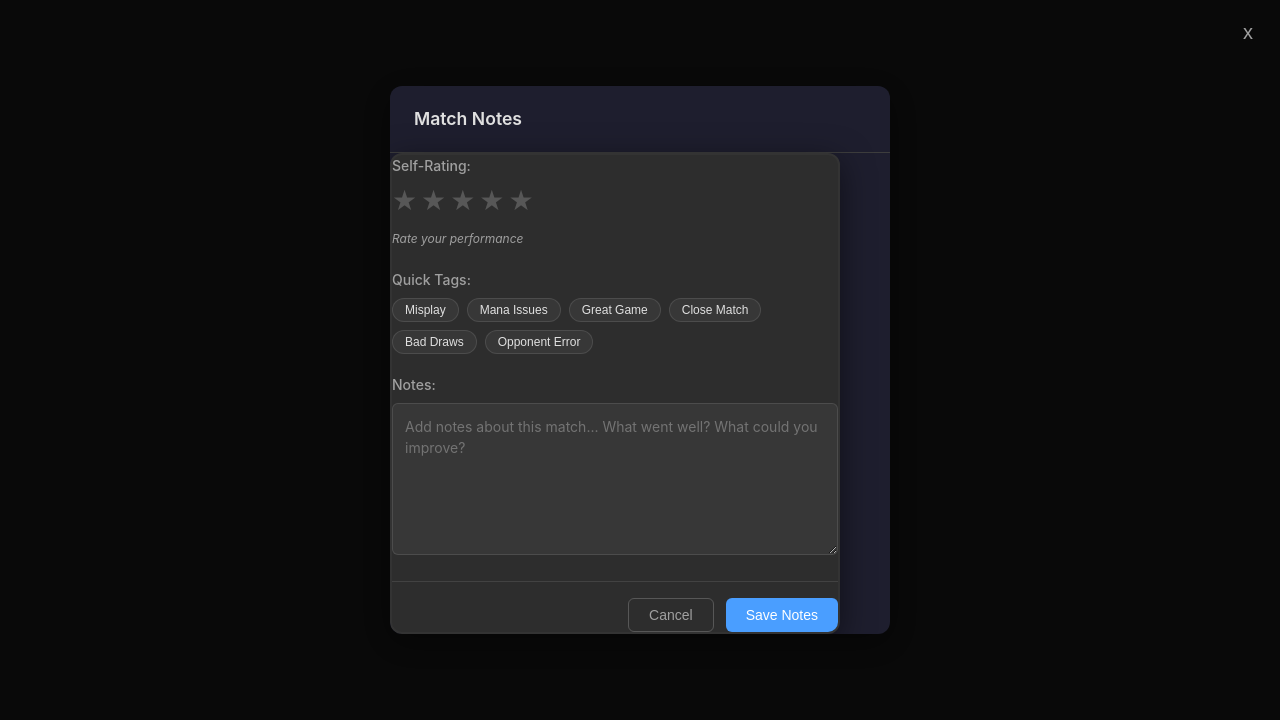
Test: MatchNotesModal › Error Handling › should show error message when save fails
Click the button "Save Notes" at (782, 615), box [726,598,838,632]
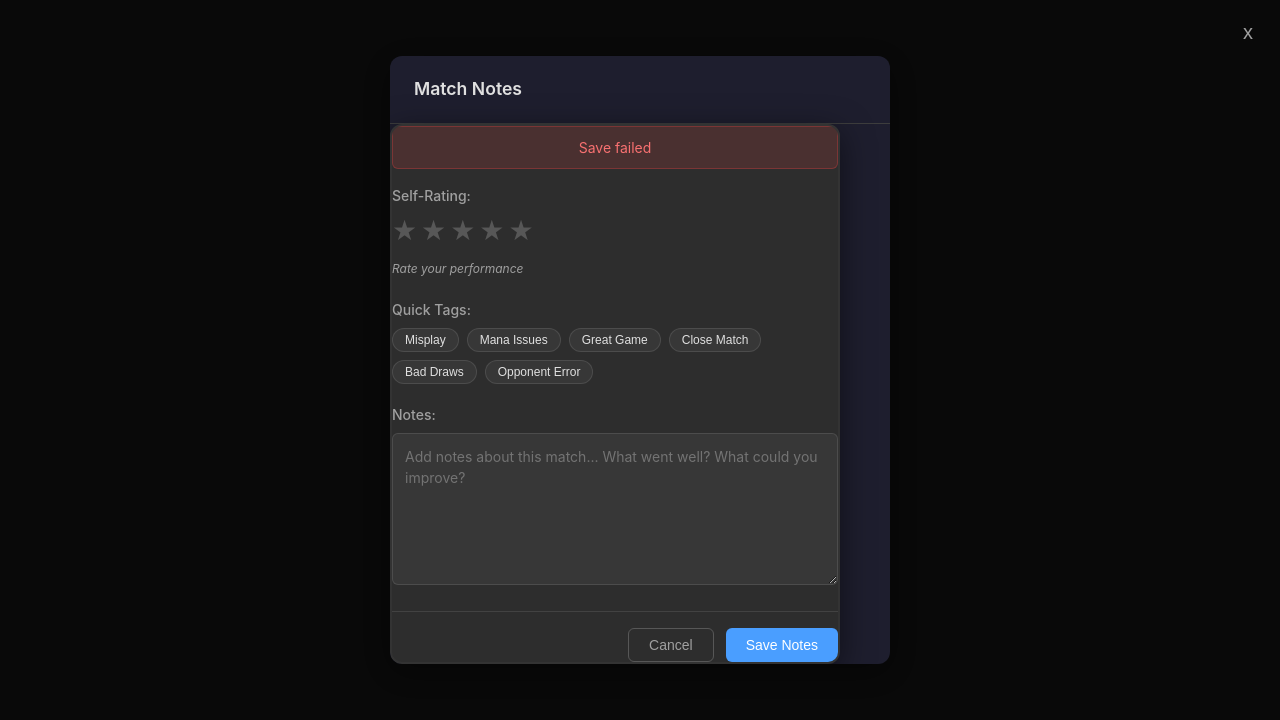
Expected: the text "Save failed" is shown, [579,139,651,156]
